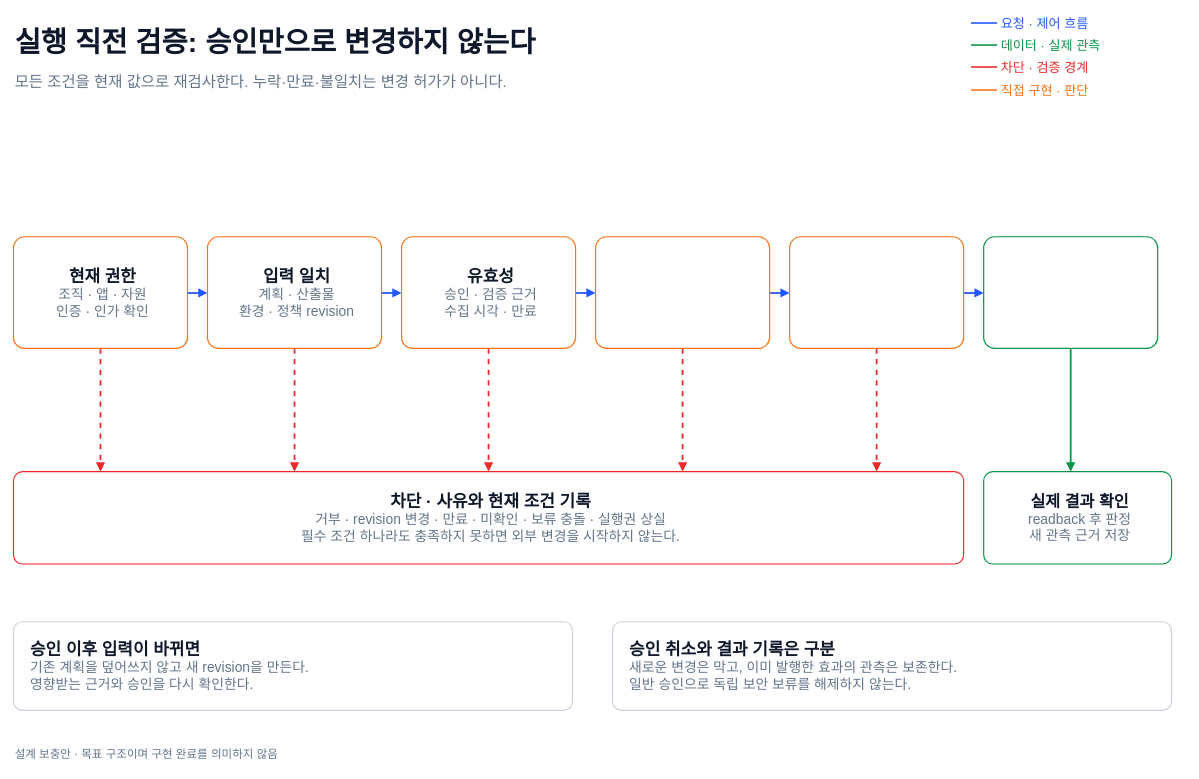
The diagram is 1199 pixels wide and 779 high, and some of its shapes have lost their labels. The shapes that lost their labels are listed below. From the top down, each one's centre as x and y in pixels, then its label:
At (x=682, y=292): "보안 보류 활성 보류와 충돌 허용된 대응 범위".
At (x=876, y=292): "실행권 현재 owner · epoch 리스 · 명령 기한".
At (x=1070, y=292): "변경 허용 등록된 대상에 허용된 동작만".
